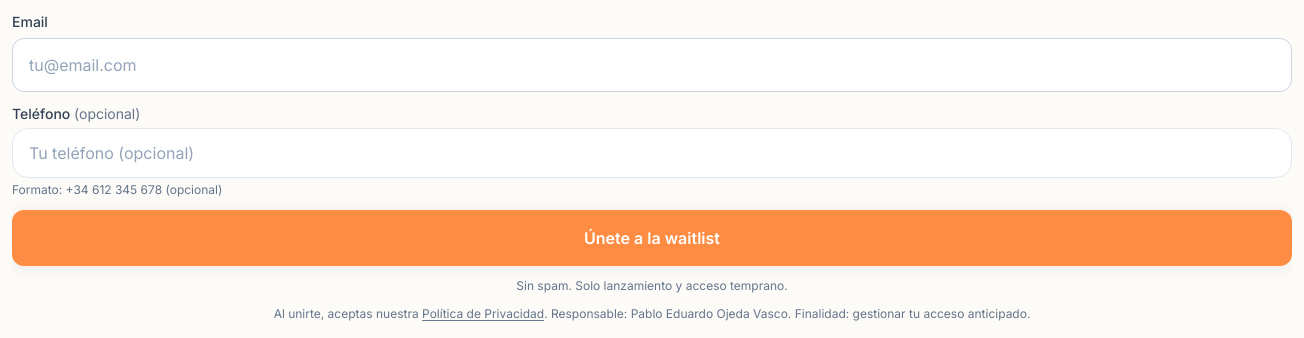
Test: WaitlistForm — phone auto-prepend › blurring with 9-digit number prepends +34
The image size is (1304, 338).
Type "612345678" into the field labelled "Teléfono (opcional)".
click(652, 153); type("612345678")  # box [12, 128, 1292, 178]
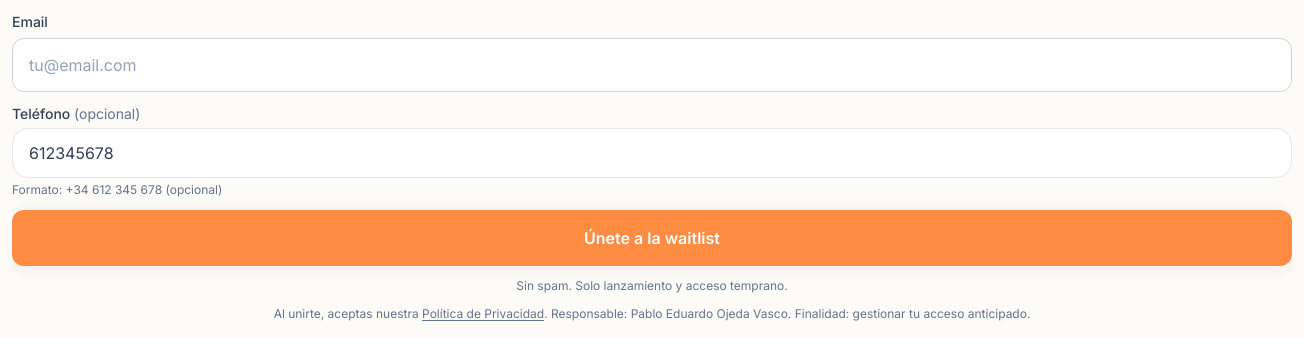
Leave the field labelled "Teléfono (opcional)", box [12, 128, 1292, 178]
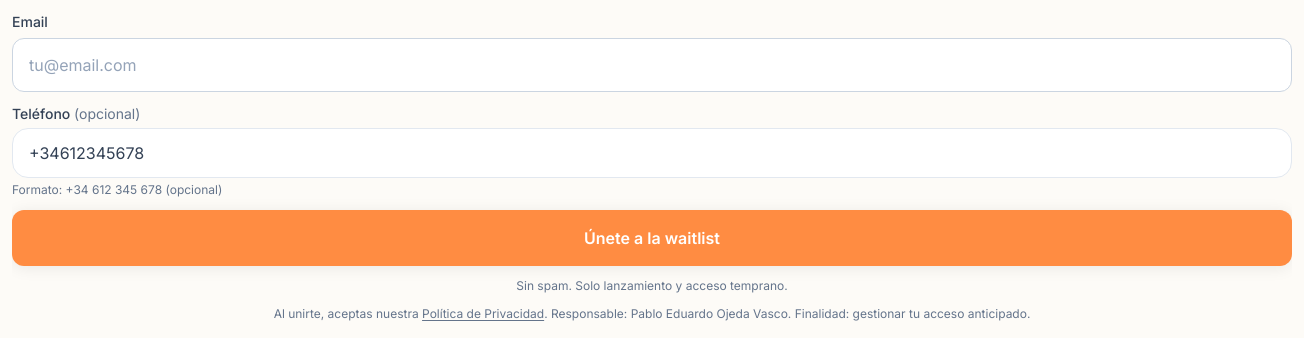
Now the field labelled "Teléfono (opcional)" holds "+34612345678", box [12, 128, 1292, 178]
